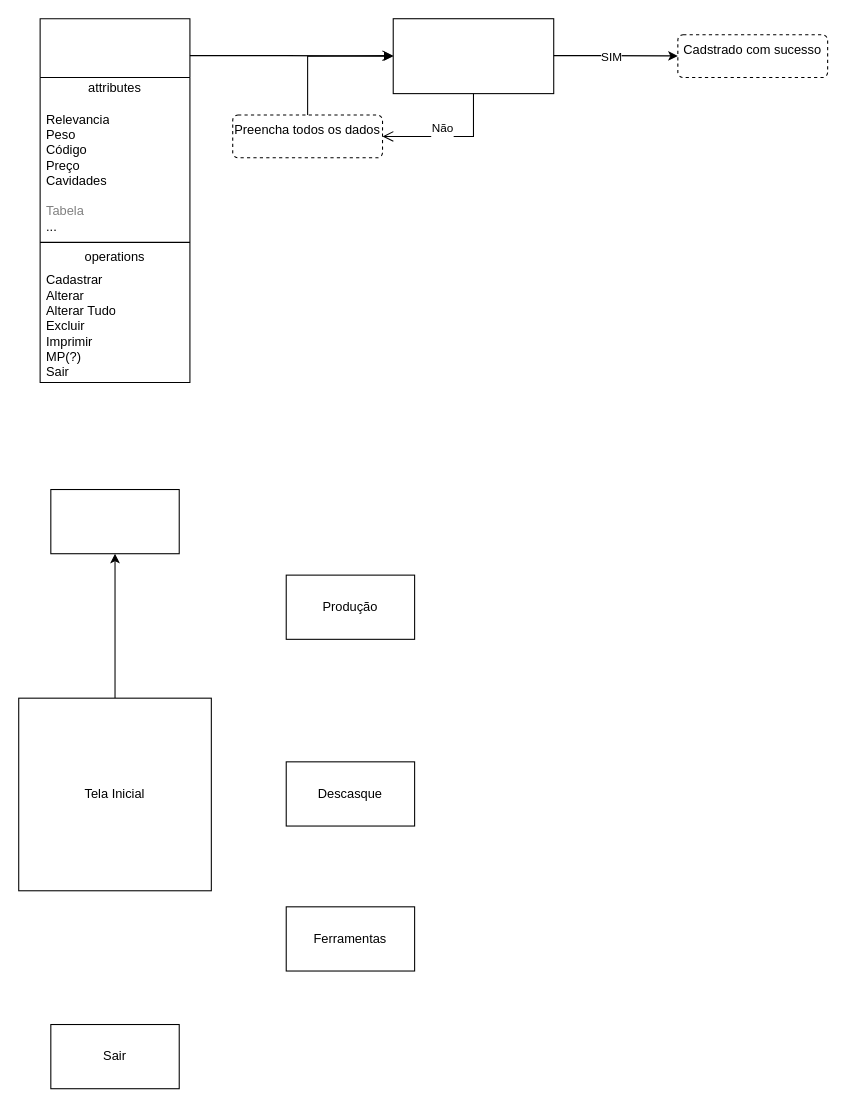
Image size: 846x1107. Some labels were removed from this diagram. The box of each missing label's shape, as (x1, y1, x2, y2) in pixels:
Cadastrar (Possui todas informações preenchidas?): (392, 18, 554, 94)
Produtos: (50, 488, 179, 554)
Tabela de Preços & Matéria Prima: (39, 18, 190, 383)
